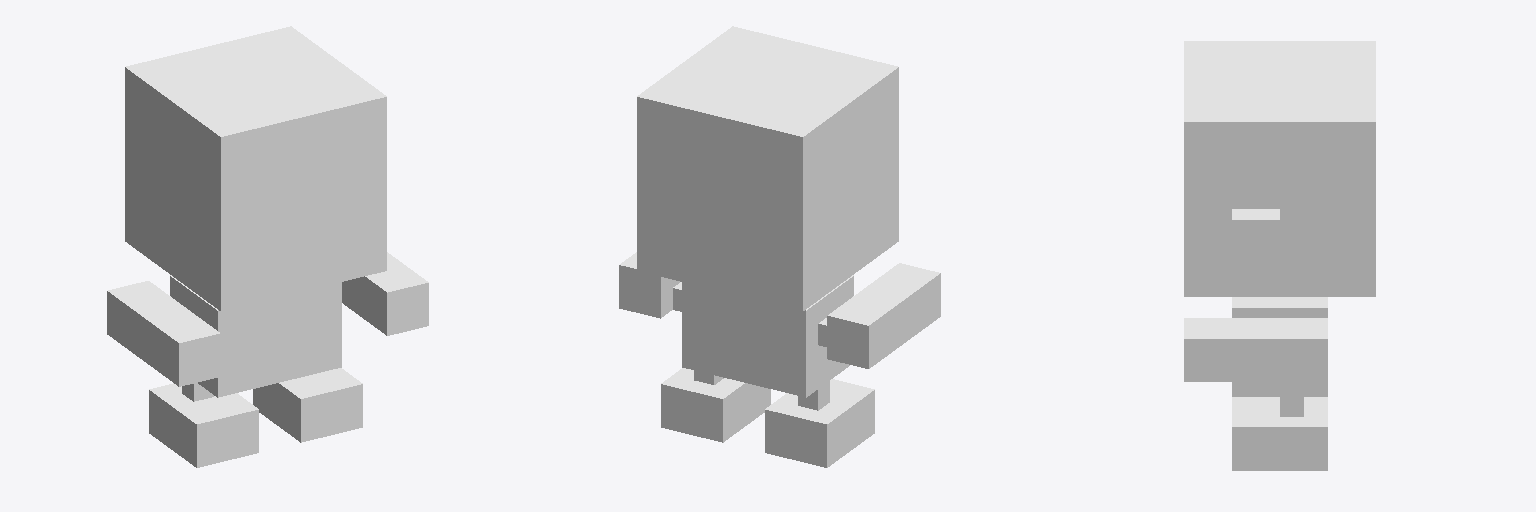
Rendered from zombie.vox.obj.
The picture shows the model from 3 angles: view 1: azimuth 30°, elevation 25°; view 2: azimuth 150°, elevation 25°; view 3: azimuth 270°, elevation 25°; orthographic projection.
Parts seen in each view (by area): view 1: object 1; view 2: object 1; view 3: object 1.
Part boxes in pixels (bbox=[...]): object 1: bbox=[107, 26, 428, 467]; object 1: bbox=[619, 26, 940, 467]; object 1: bbox=[1184, 41, 1375, 470].
Size of the model in its own units: 1.2 by 1.6 by 0.8.